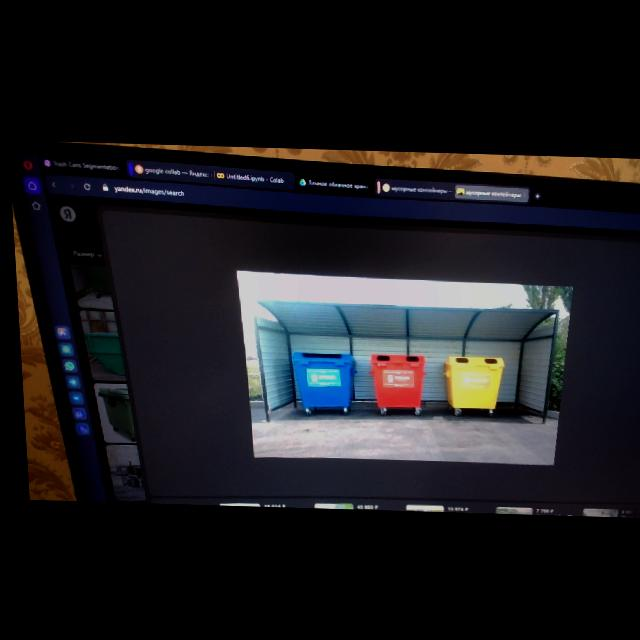Trash_Can_Closed: (287, 351, 355, 406), (439, 352, 502, 406), (365, 351, 424, 408)
